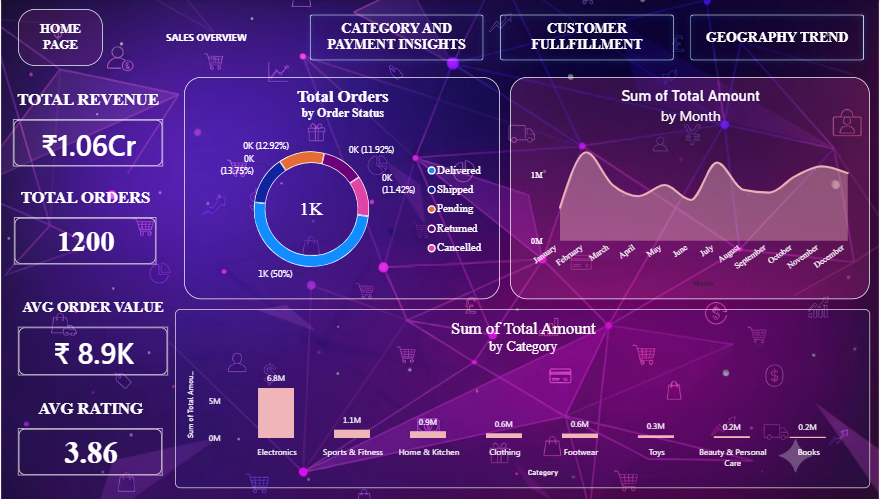

This screenshot's page, from the dashboard's own definition file:
{"tool":"powerbi","page":{"name":"SALES OVERVIEW","canvas":[1280,720],"ordinal":1},"visuals":[{"type":"cardVisual","title":"TOTAL REVENUE","fields":{"Data":["Sales Data.Total Revenue (Cr/L)"]},"box":[27.4,15.8,227.5,110.9],"z":0},{"type":"cardVisual","title":"AVG RATING","fields":{"Data":["Sales Data.Avg Rating"]},"box":[865.4,15.8,208.8,110.9],"z":1000},{"type":"cardVisual","title":"AVG ORDER VALUE","fields":{"Data":["Sales Data.Avg Order Value"]},"box":[573.1,15.8,216,110.9],"z":2000},{"type":"cardVisual","title":"TOTAL ORDERS","fields":{"Data":["Sales Data.Total Orders"]},"box":[306.7,15.8,205.9,110.9],"z":3000},{"type":"areaChart","fields":{"Category":["Sales Data.Order Date.Variation.Date Hierarchy.Month"],"Y":["Sum(Sales Data.Total Amount)"]},"box":[629.3,142.6,629.3,293.8],"z":4000},{"type":"donutChart","fields":{"Category":["Sales Data.Order Status"],"Y":["Sales Data.Total Orders"]},"box":[27.4,142.6,581.8,293.8],"z":5000},{"type":"columnChart","fields":{"Category":["Sales Data.Category"],"Y":["Sum(Sales Data.Total Amount)"]},"box":[27.4,446.4,1231.2,257.8],"z":6000}]}

Visuals, with their boxes in screenshot pixels (x1, y1, x2, y2), scaled from the page's 1280x720 canvas onto the 880x499 screenshot:
"TOTAL REVENUE" cardVisual: box(19, 11, 175, 88)
"AVG RATING" cardVisual: box(595, 11, 739, 88)
"AVG ORDER VALUE" cardVisual: box(394, 11, 543, 88)
"TOTAL ORDERS" cardVisual: box(211, 11, 352, 88)
areaChart - Sales Data.Order Date.Variation.Date Hierarchy.Month x Sum(Sales Data.Total Amount): box(433, 99, 865, 302)
donutChart - Sales Data.Order Status x Sales Data.Total Orders: box(19, 99, 419, 302)
columnChart - Sales Data.Category x Sum(Sales Data.Total Amount): box(19, 309, 865, 488)
